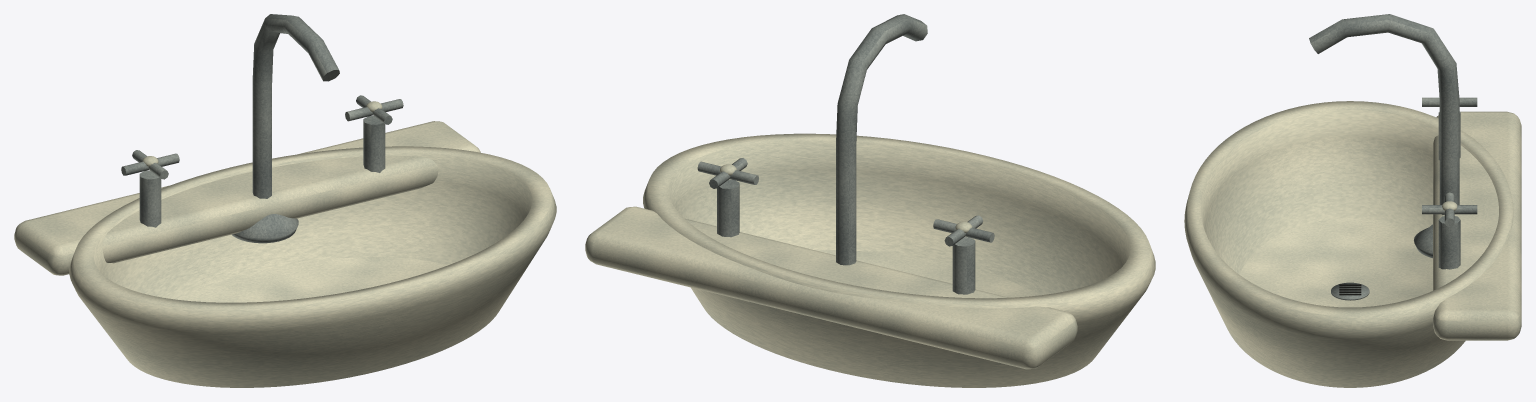
Rendered from Sink.fbx.
3 views of the same model, side by side, from view 1: azimuth 30°, elevation 25°; view 2: azimuth 150°, elevation 25°; view 3: azimuth 270°, elevation 25° (orthographic). The views are drawn at different scales.
Parts seen in each view (by area): view 1: Sink_Porcelain, Sink_Chrome; view 2: Sink_Porcelain, Sink_Chrome; view 3: Sink_Porcelain, Sink_Chrome.
Part boxes in pixels (x1,y1,x2,y2): Sink_Porcelain: (14,101,556,387); Sink_Chrome: (121,14,403,243); Sink_Porcelain: (585,133,1155,387); Sink_Chrome: (697,14,994,294); Sink_Porcelain: (1184,101,1521,387); Sink_Chrome: (1309,14,1477,300).
Size of the model in its own units: 94 by 59.29 by 61.
